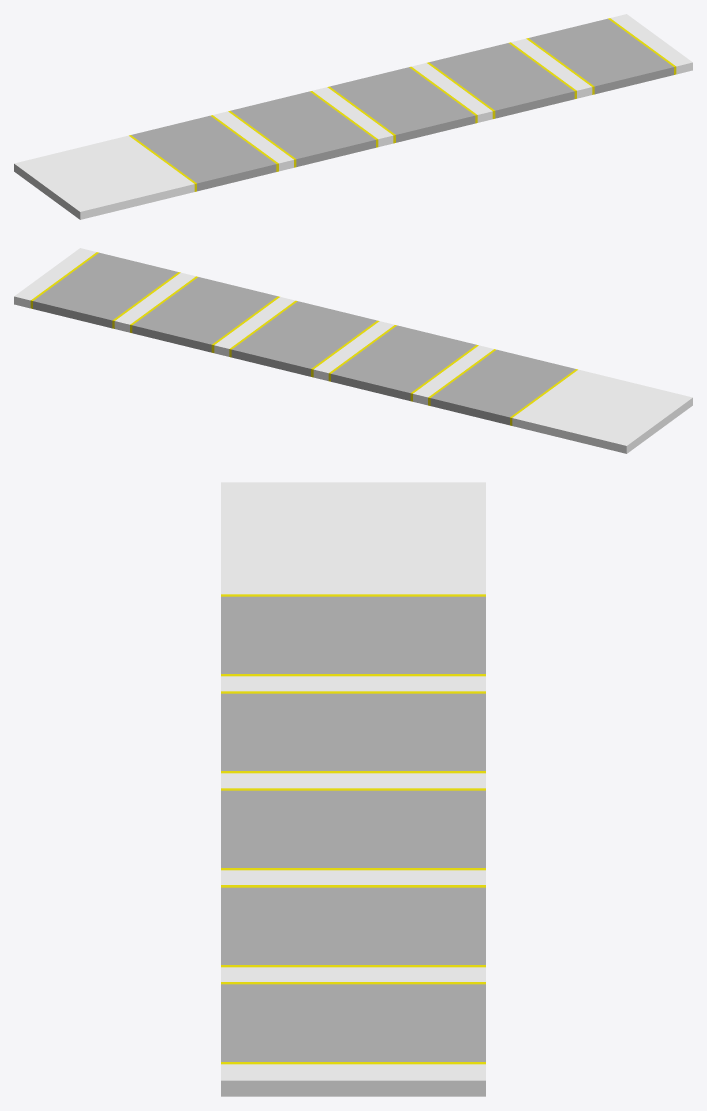
File: Left Platform.fbx
3 renders of one model, top to bottom at view 1: azimuth 30°, elevation 25°; view 2: azimuth 150°, elevation 25°; view 3: azimuth 270°, elevation 25°, orthographic. The views are drawn at different scales.
Parts seen in each view (by area): view 1: Cube.019; view 2: Cube.019; view 3: Cube.019.
Part boxes in pixels (<box>): Cube.019: <box>14,14,692,219</box>; Cube.019: <box>14,248,692,453</box>; Cube.019: <box>221,482,485,1096</box>.
Size of the model in its own units: 8017 by 100 by 1500.
